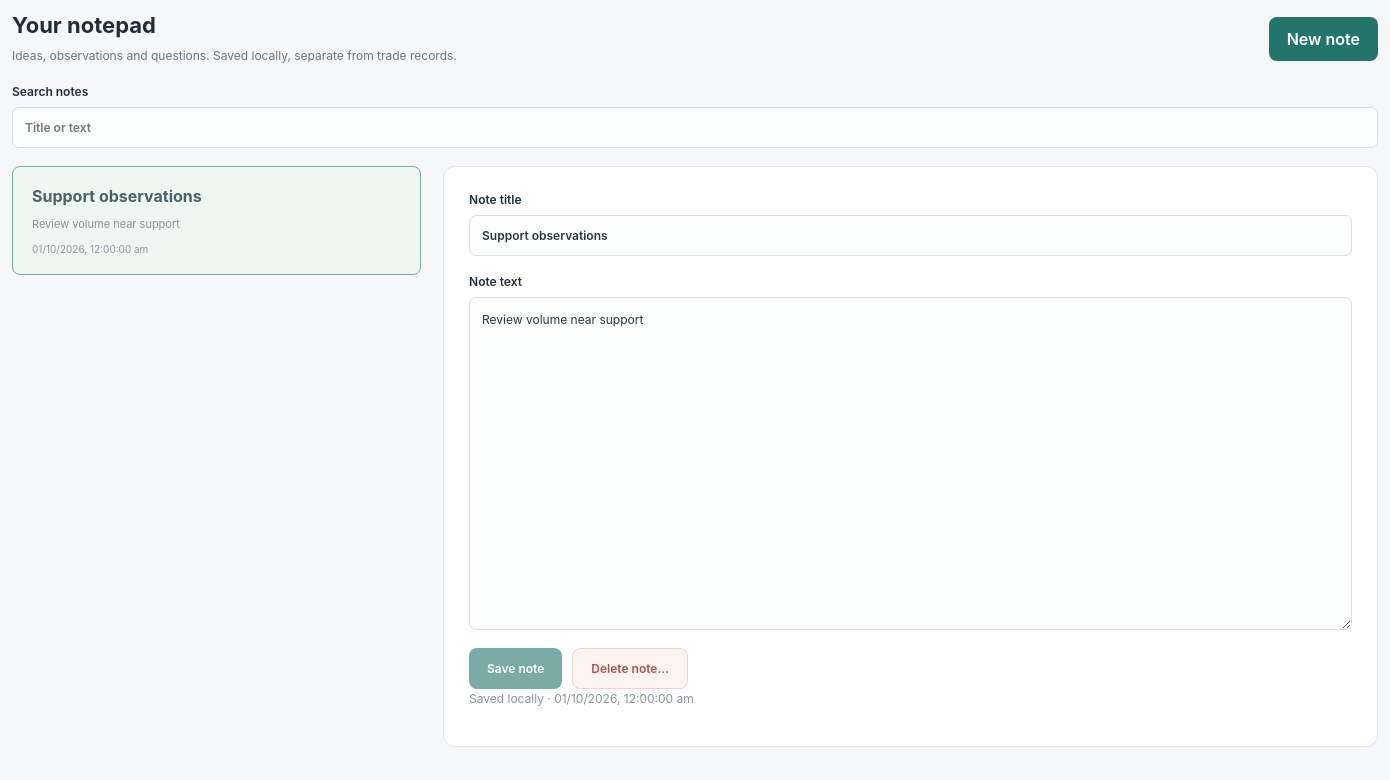
it: local notepad › edits with the displayed version and searches titles/body
The width and height of the screenshot is (1390, 780).
Replace the text in the text box labelled "Note text" with "Review brokerage too" at (910, 463), box [469, 297, 1352, 630]
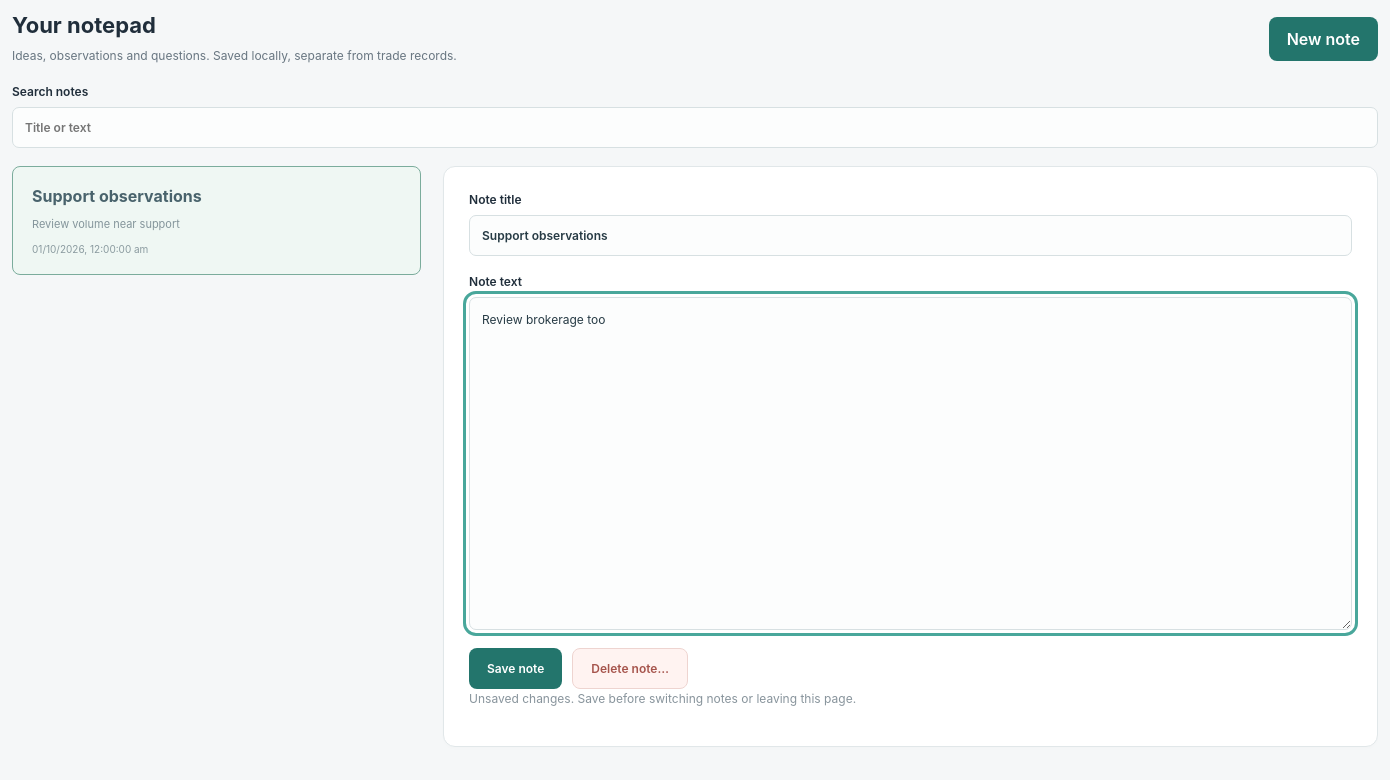
Click the button "Save note".
click(516, 668)  # box [469, 648, 562, 689]
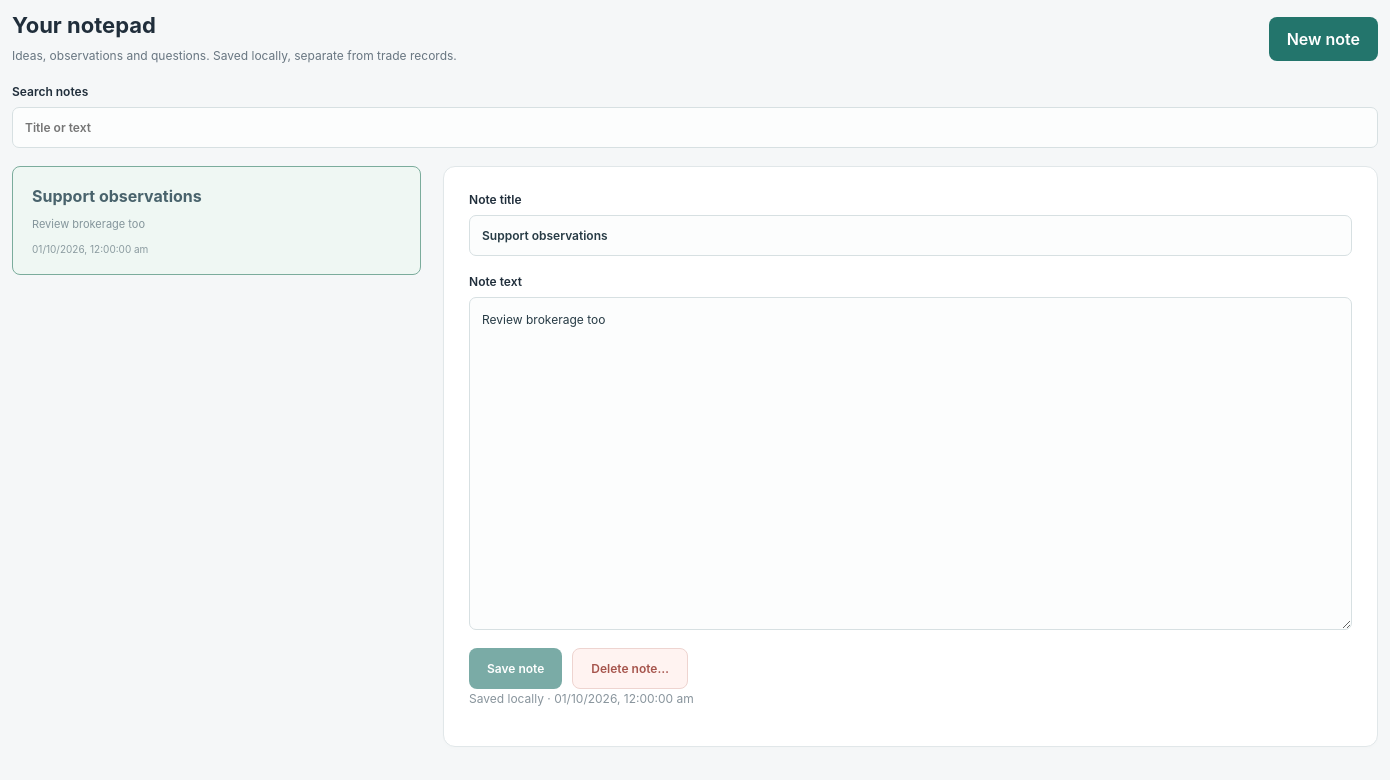
Now the button "Review brokerage too" is shown, box [12, 166, 421, 275]
Type "nothing-matches" into the field labelled "Search notes".
click(695, 127); type("nothing-matches")  # box [12, 107, 1378, 148]
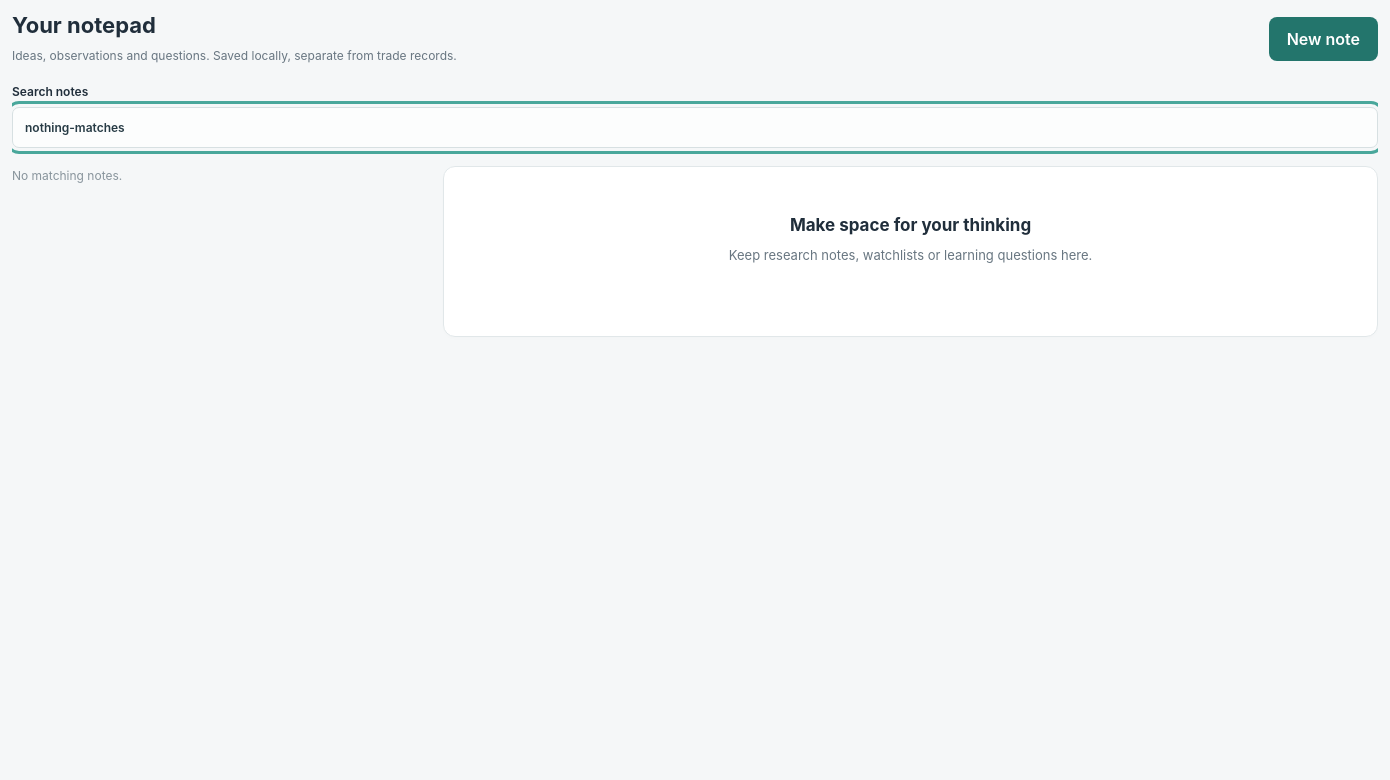
Now the text "No matching notes." is shown, box [12, 168, 122, 183]
